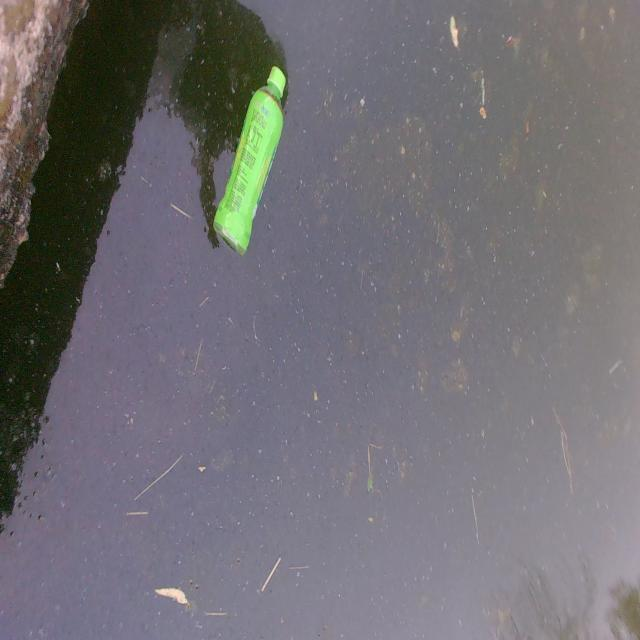bottle: (206, 56, 306, 264)
